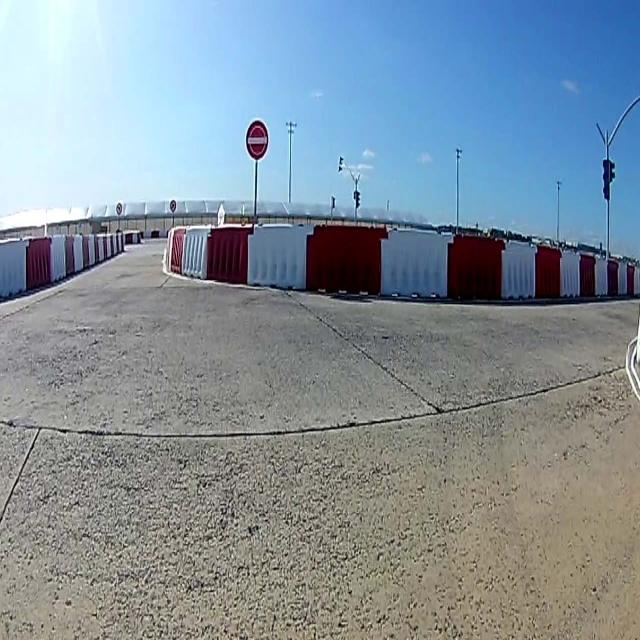girisyok: (248, 124, 266, 156)
